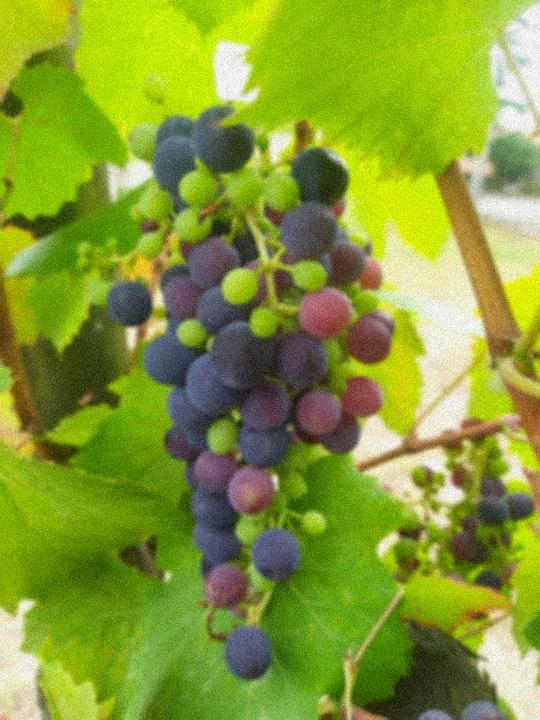grape: (76, 76, 396, 683)
